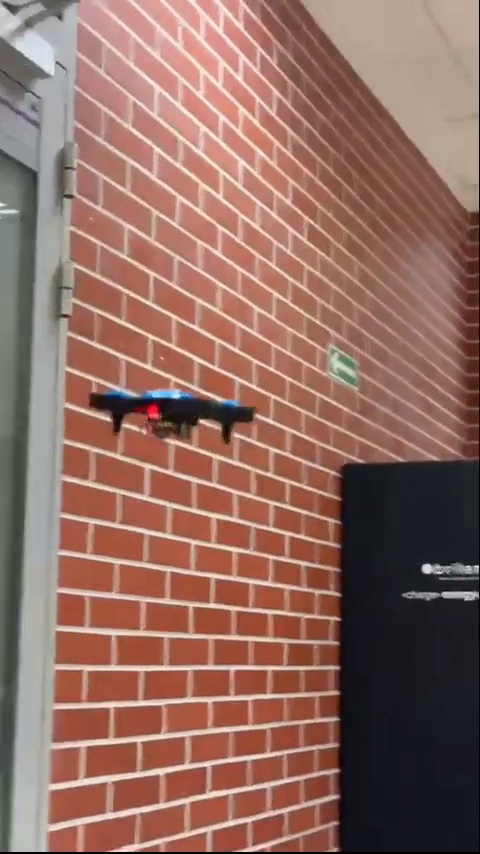drone: (86, 378, 254, 449)
